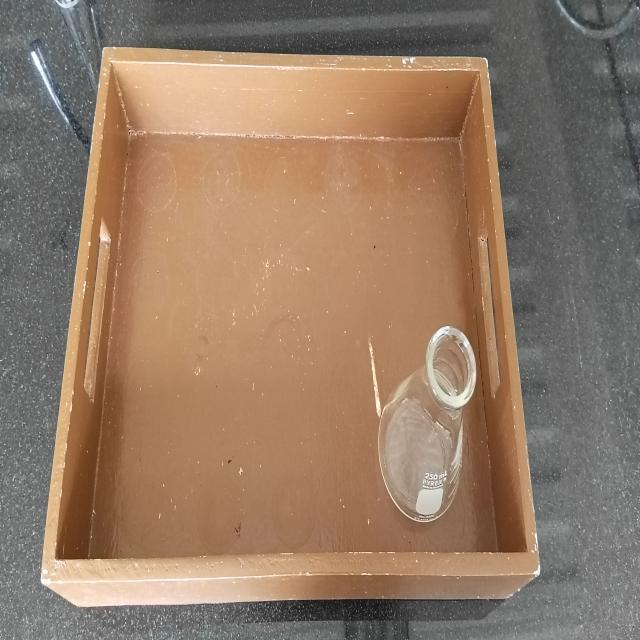erlenmeyer_flask: (368, 323, 482, 527)
